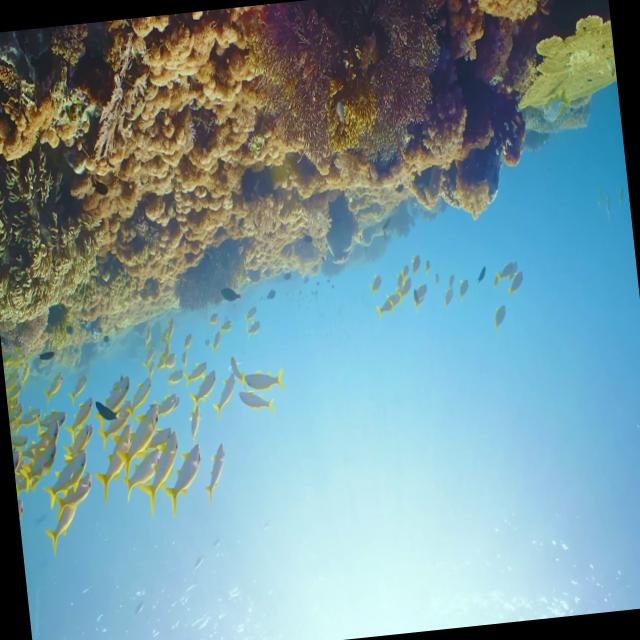fish: (160, 438, 212, 516), (138, 432, 188, 510), (122, 406, 165, 466), (90, 433, 136, 488), (194, 441, 230, 505), (47, 458, 92, 504), (232, 364, 288, 398), (57, 475, 95, 521), (206, 370, 242, 416), (124, 448, 162, 489), (101, 376, 133, 422), (98, 404, 130, 448), (186, 368, 222, 407), (60, 416, 90, 462), (23, 443, 58, 482), (126, 373, 154, 417), (231, 390, 278, 416), (220, 272, 250, 310), (64, 396, 94, 432), (49, 497, 74, 540), (88, 402, 118, 434), (184, 402, 208, 440), (491, 294, 514, 333), (44, 412, 64, 452), (164, 364, 192, 391), (150, 392, 178, 419), (184, 356, 208, 383)
